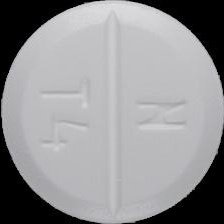29033-001: (0, 0, 224, 224)
